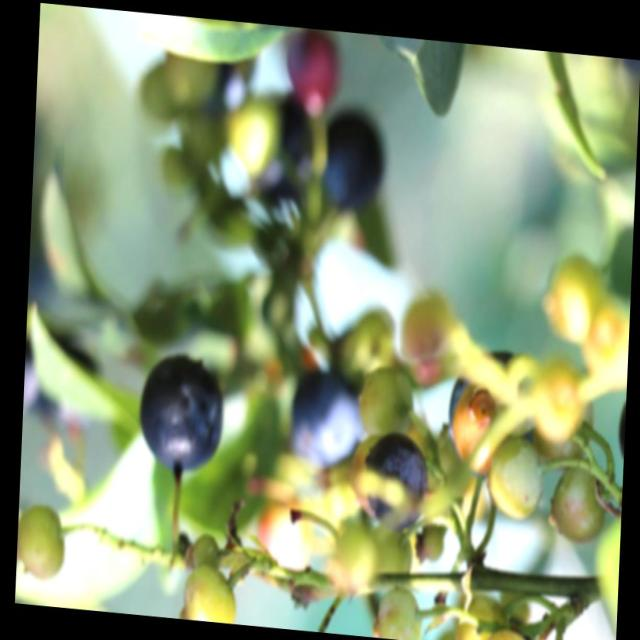blueberry: (134, 347, 227, 478), (287, 368, 367, 474), (319, 106, 388, 212), (364, 426, 432, 529)
blueberry-unripe: (484, 438, 543, 539), (545, 257, 607, 352), (449, 381, 503, 482), (550, 462, 607, 552), (532, 353, 587, 439), (362, 367, 420, 442), (17, 504, 68, 584), (182, 567, 244, 623), (374, 588, 424, 640)
